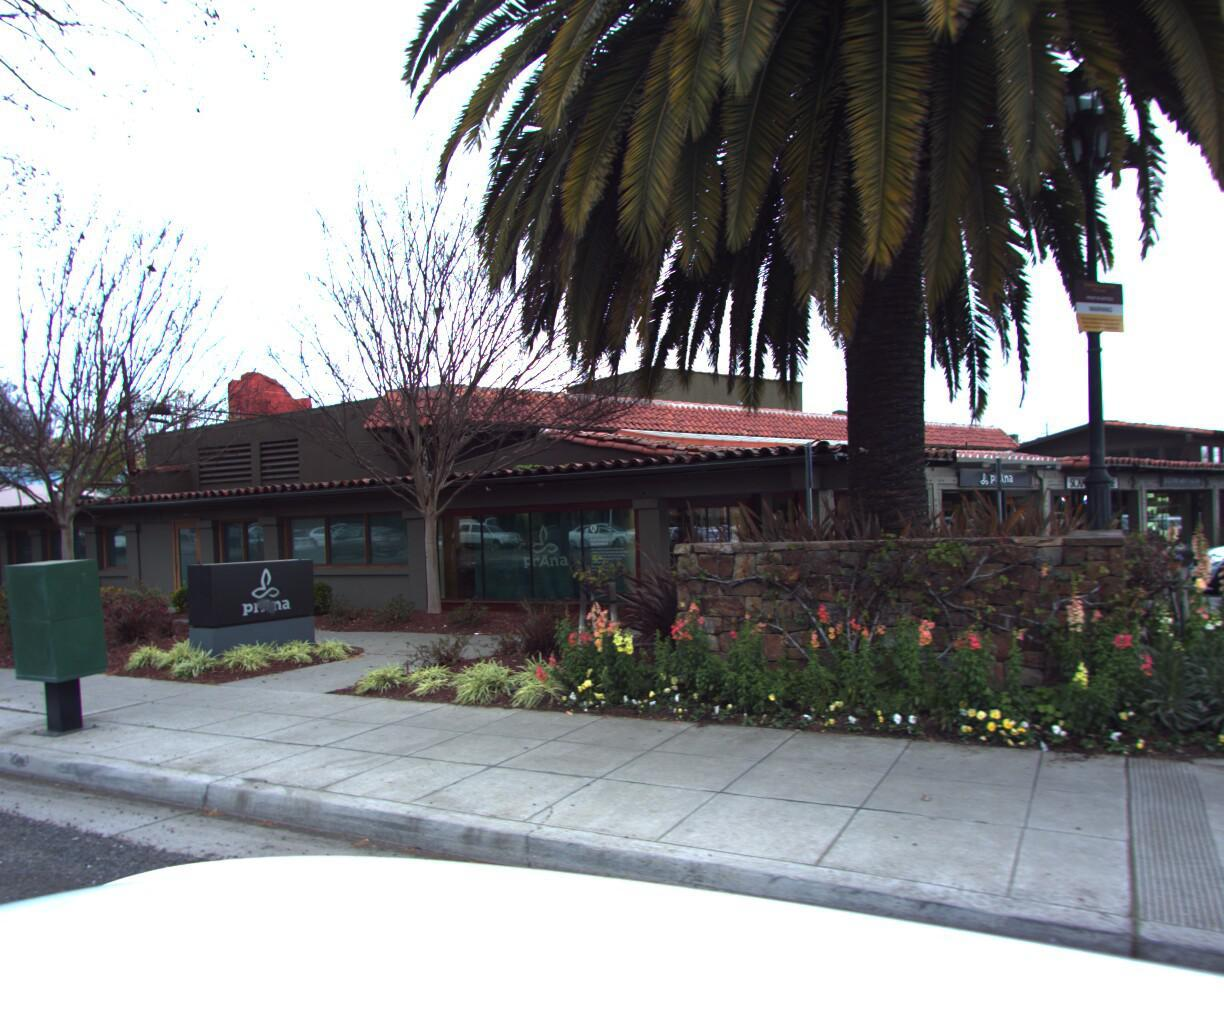car: (1177, 509, 1224, 593)
